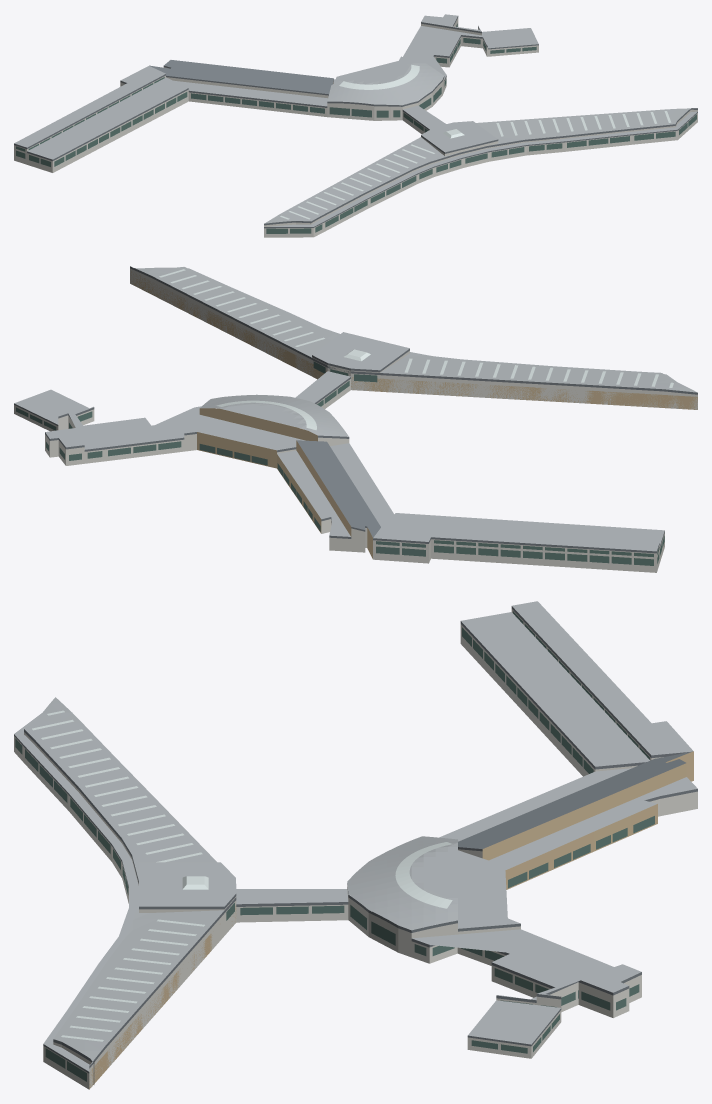
File: hou-hobby-terminal.glb
3 views of the same model, one above another, from view 1: azimuth 30°, elevation 25°; view 2: azimuth 150°, elevation 25°; view 3: azimuth 270°, elevation 25° (orthographic). The views are drawn at different scales.
Parts seen in each view (by area): view 1: William P. Hobby Airport terminal; view 2: William P. Hobby Airport terminal; view 3: William P. Hobby Airport terminal.
Boxes of the visible parts, x1=… form: William P. Hobby Airport terminal: x1=14, y1=14, x2=697, y2=237; William P. Hobby Airport terminal: x1=14, y1=266, x2=697, y2=572; William P. Hobby Airport terminal: x1=14, y1=601, x2=697, y2=1089.
Bounding box in the file's own units: 539 × 21.75 × 339.
